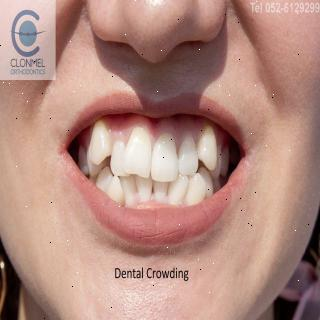maligned: (123, 130, 151, 176), (198, 121, 224, 166), (108, 138, 134, 174), (91, 124, 115, 155), (170, 172, 188, 206), (187, 172, 206, 204), (120, 170, 138, 200), (108, 176, 128, 202)
